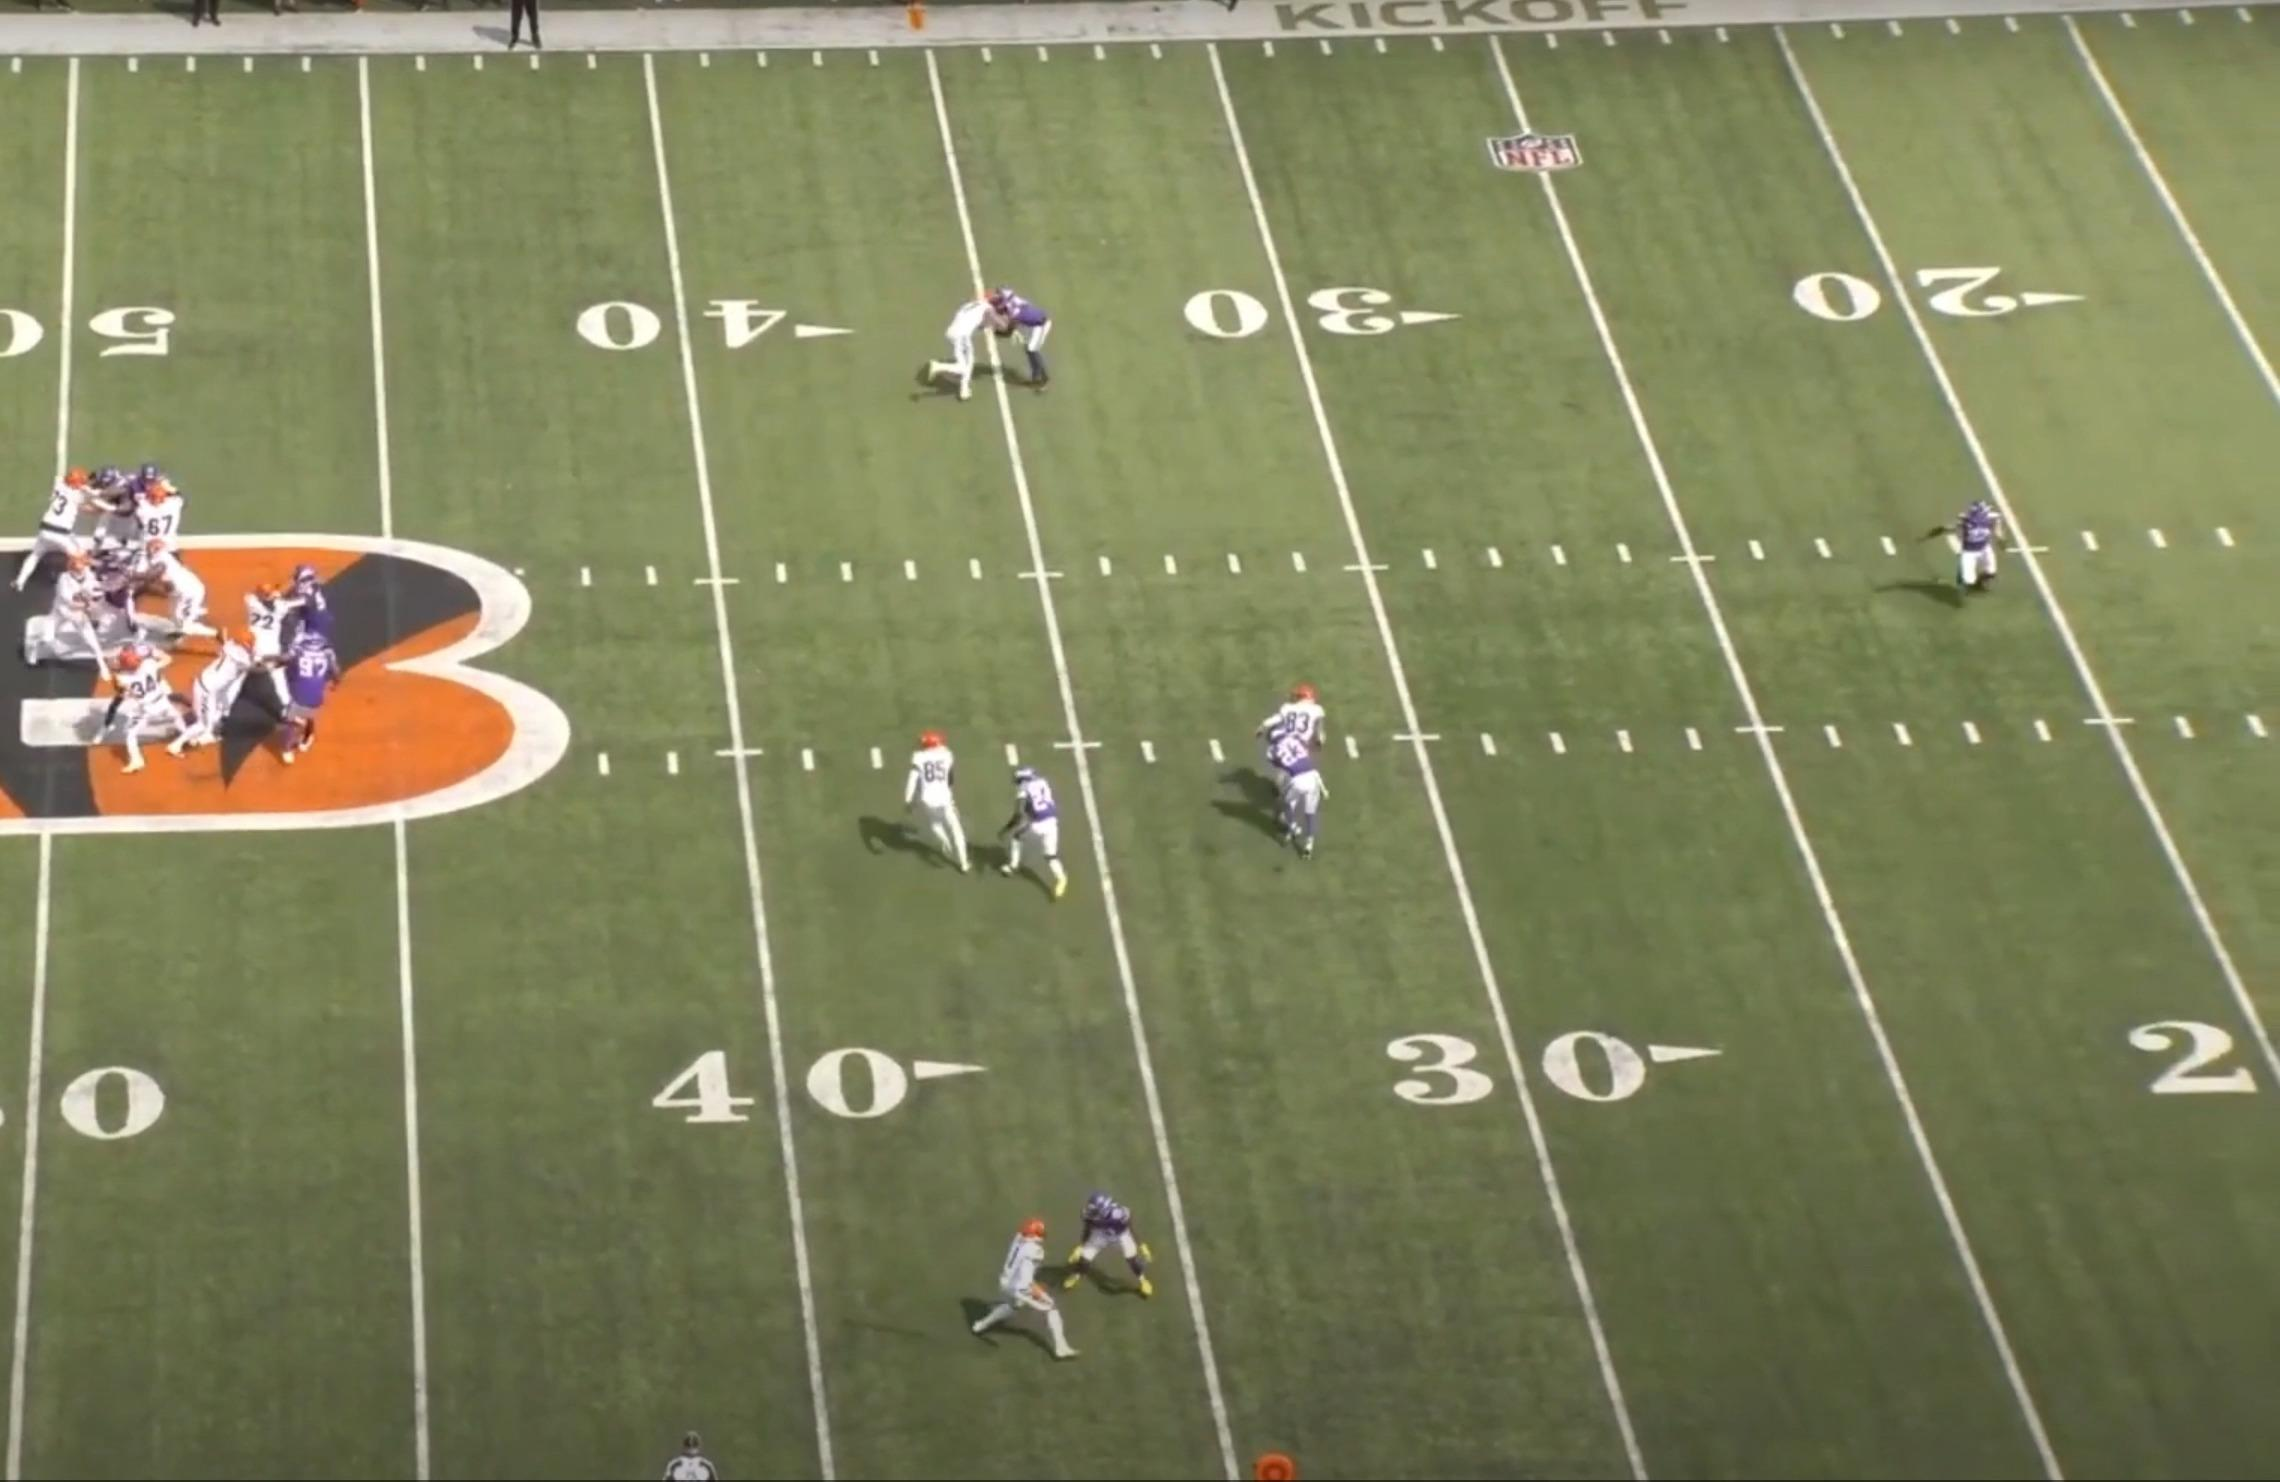defense: (1065, 1181, 1162, 1313), (999, 756, 1075, 905), (1266, 719, 1328, 867), (985, 281, 1060, 397), (274, 628, 339, 761), (1948, 497, 2009, 613), (93, 543, 145, 618), (291, 563, 337, 640), (88, 467, 131, 548), (126, 460, 179, 503)
oline: (184, 638, 259, 774), (12, 470, 88, 596), (145, 542, 223, 653), (239, 577, 299, 656), (136, 485, 183, 543)
qb: (32, 558, 113, 683)
skill: (964, 1215, 1080, 1371), (906, 728, 985, 887), (921, 282, 1017, 409), (98, 641, 183, 779), (1271, 678, 1336, 744)
